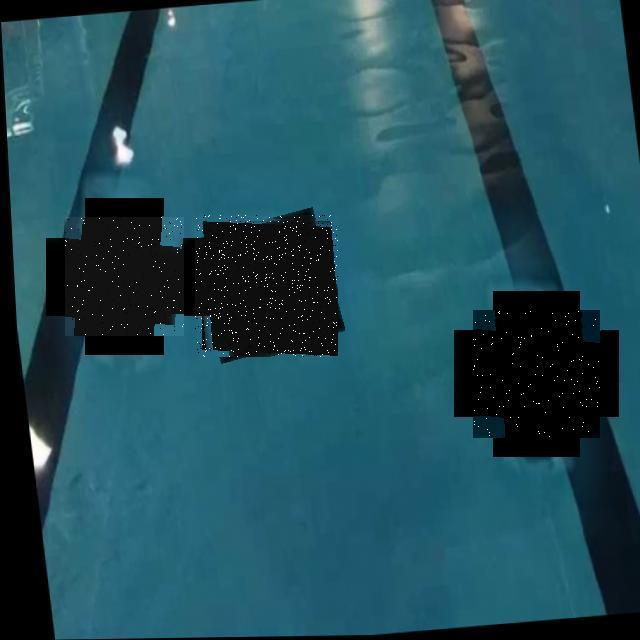swimming: (195, 215, 338, 357), (473, 310, 600, 438), (65, 217, 184, 336)
